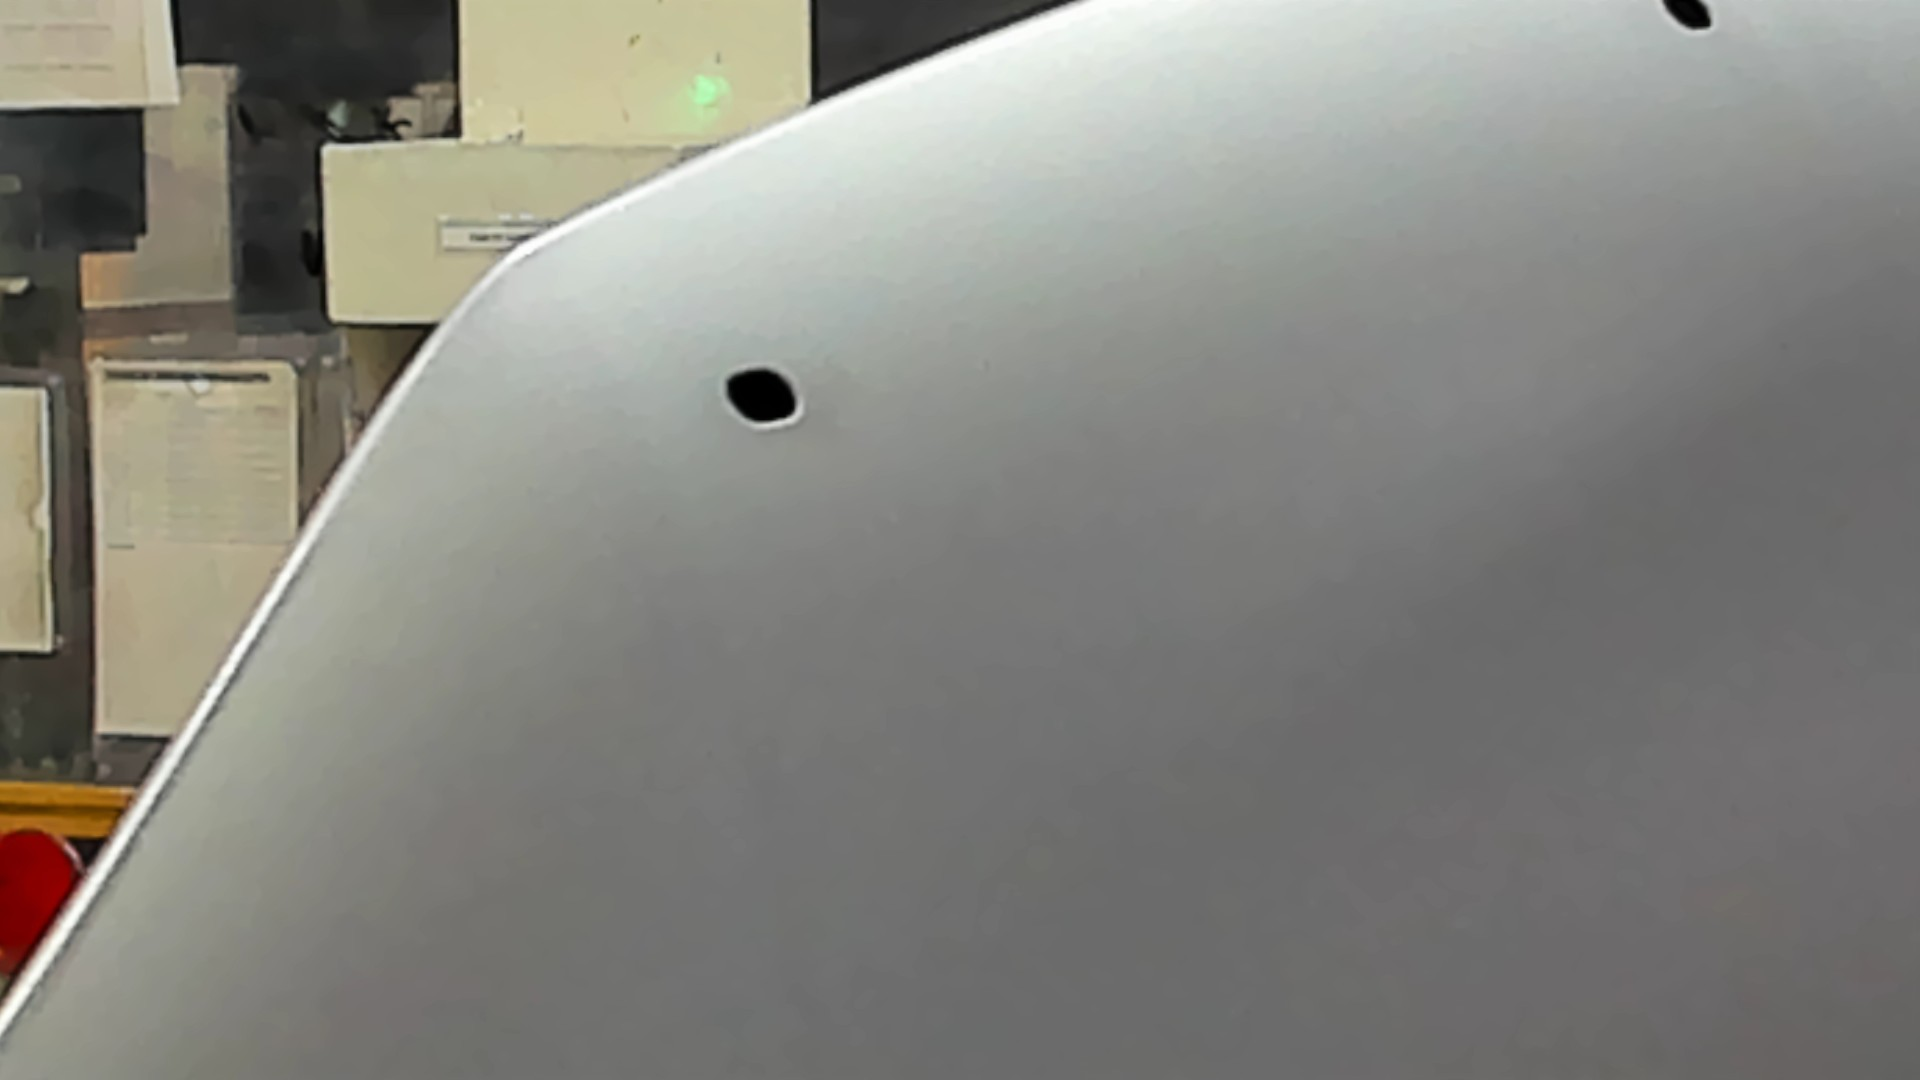chico: (713, 359, 815, 426), (1643, 1, 1725, 50)
